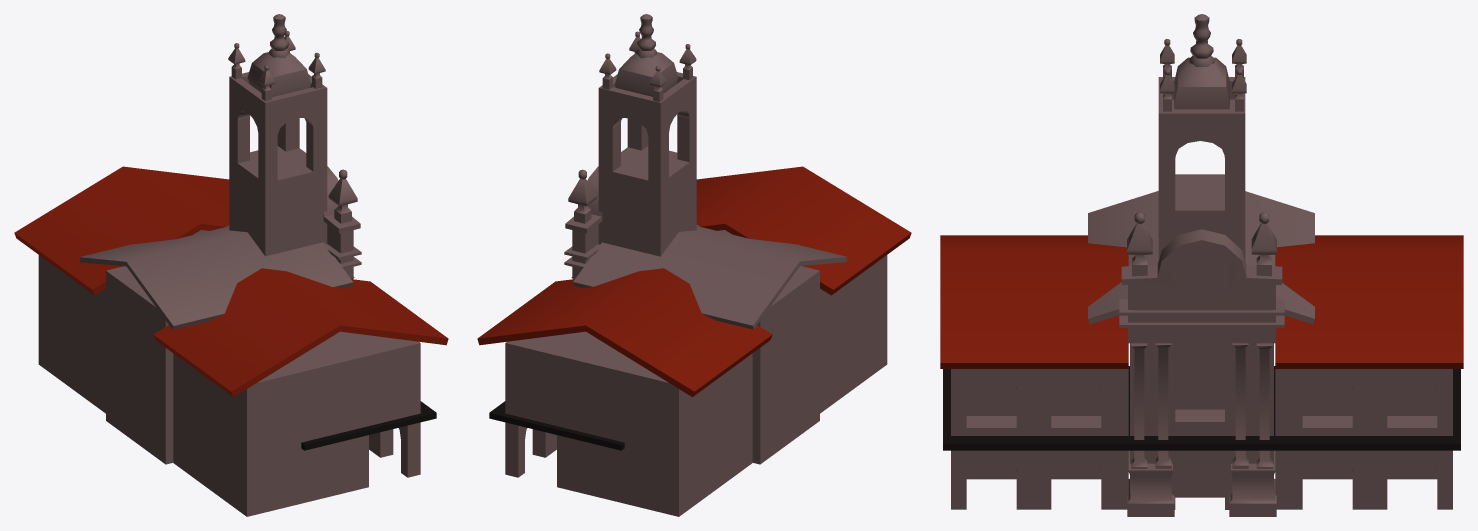
Rendered from M_Cabildo.fbx.
3 views of the same model, side by side, from view 1: azimuth 30°, elevation 25°; view 2: azimuth 150°, elevation 25°; view 3: azimuth 270°, elevation 25° (orthographic). The views are drawn at different scales.
Visible parts, largest first — view 1: transform20; view 2: transform20; view 3: transform20.
Boxes of the visible parts, bbox=[...] form: transform20: bbox=[14, 14, 448, 516]; transform20: bbox=[477, 14, 911, 516]; transform20: bbox=[940, 14, 1463, 516].
Size of the model in its own units: 3.04 by 5.26 by 5.26.
